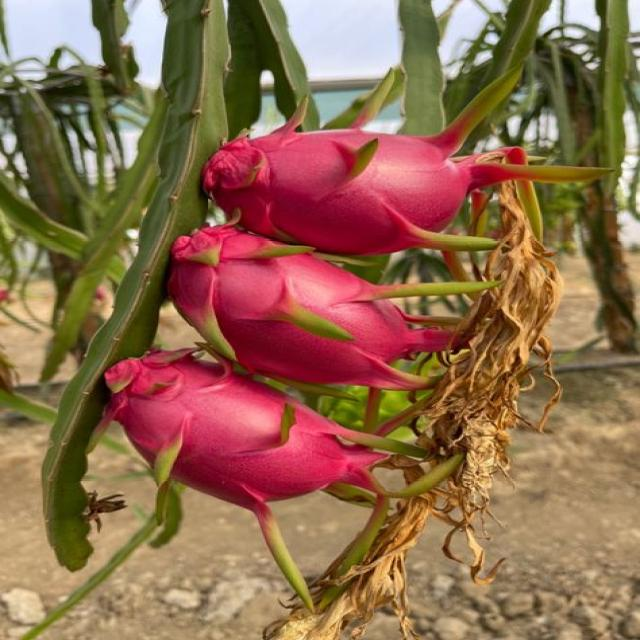Thanh Long: (210, 114, 602, 255), (153, 219, 450, 399), (97, 353, 416, 518)
